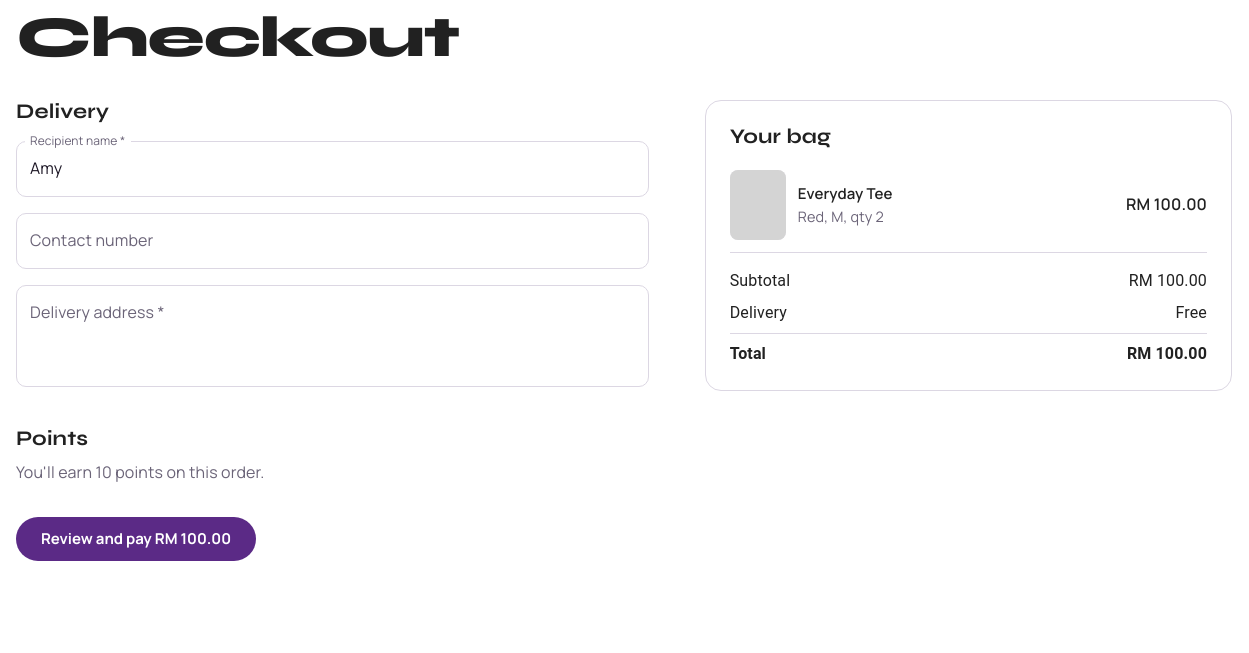
Test: needs a delivery address
This screenshot has width=1249, height=653.
Click the button "Review and pay RM 100.00" at [136, 539], box x1=16 y1=517 x2=256 y2=561
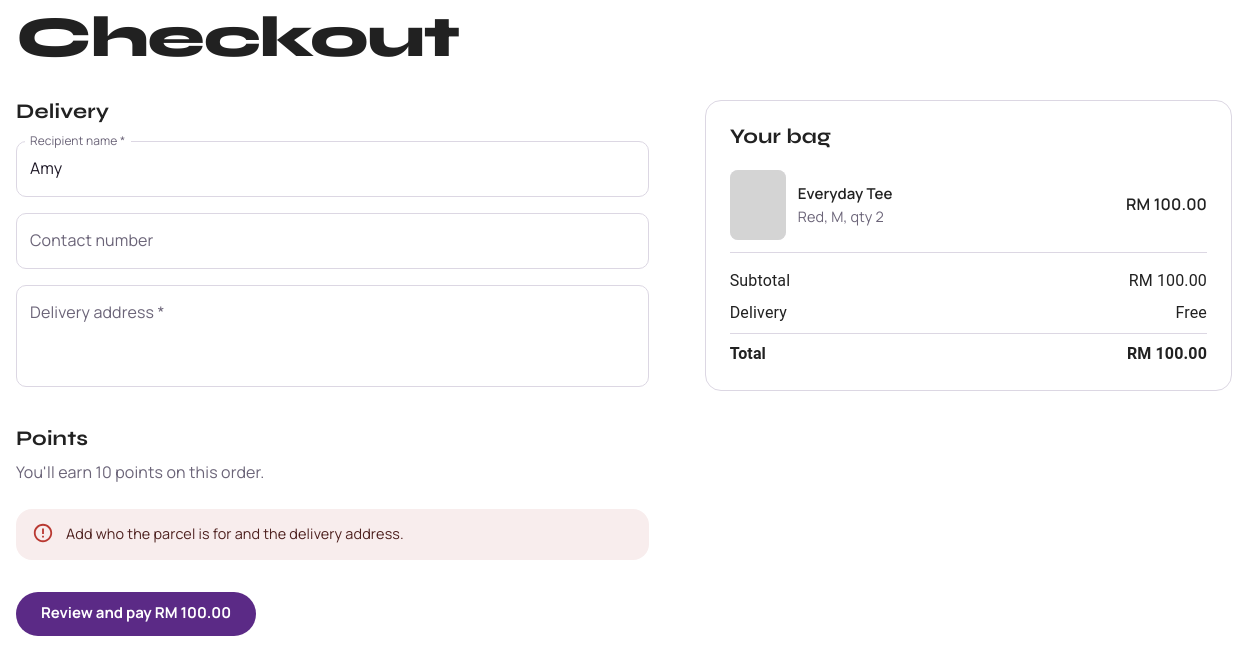
Now the text "Add who the parcel is for and the delivery address." is shown, box x1=66 y1=524 x2=404 y2=543
